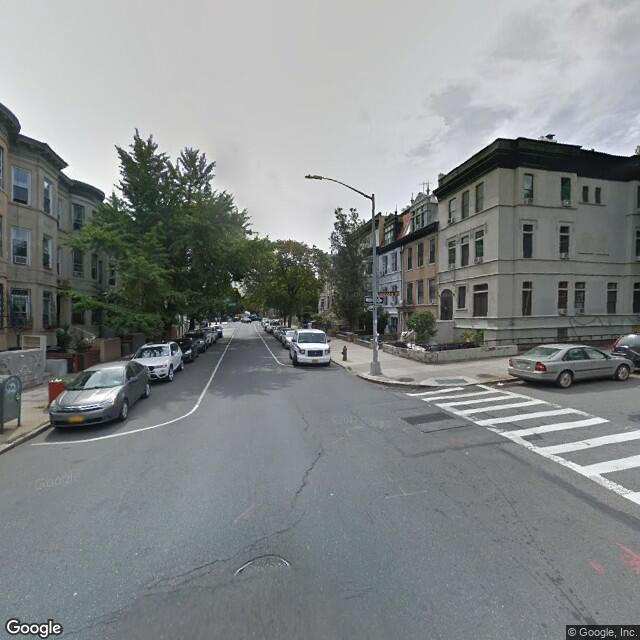litter: (494, 380, 505, 387)
